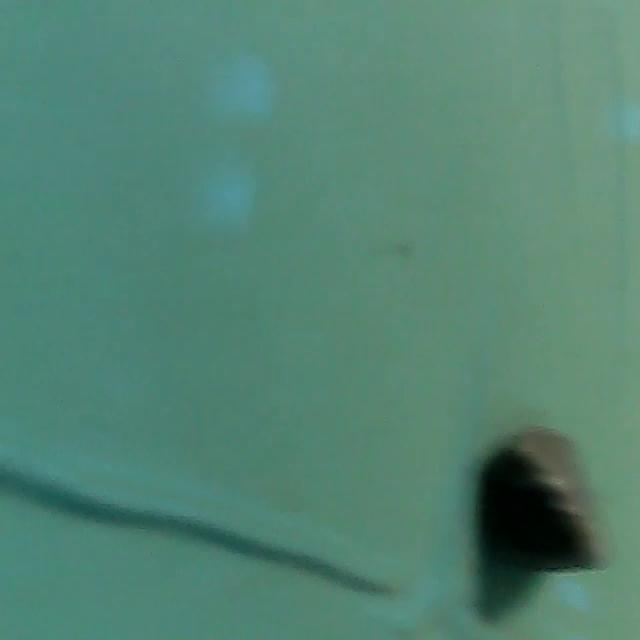rock: (471, 399, 623, 591)
